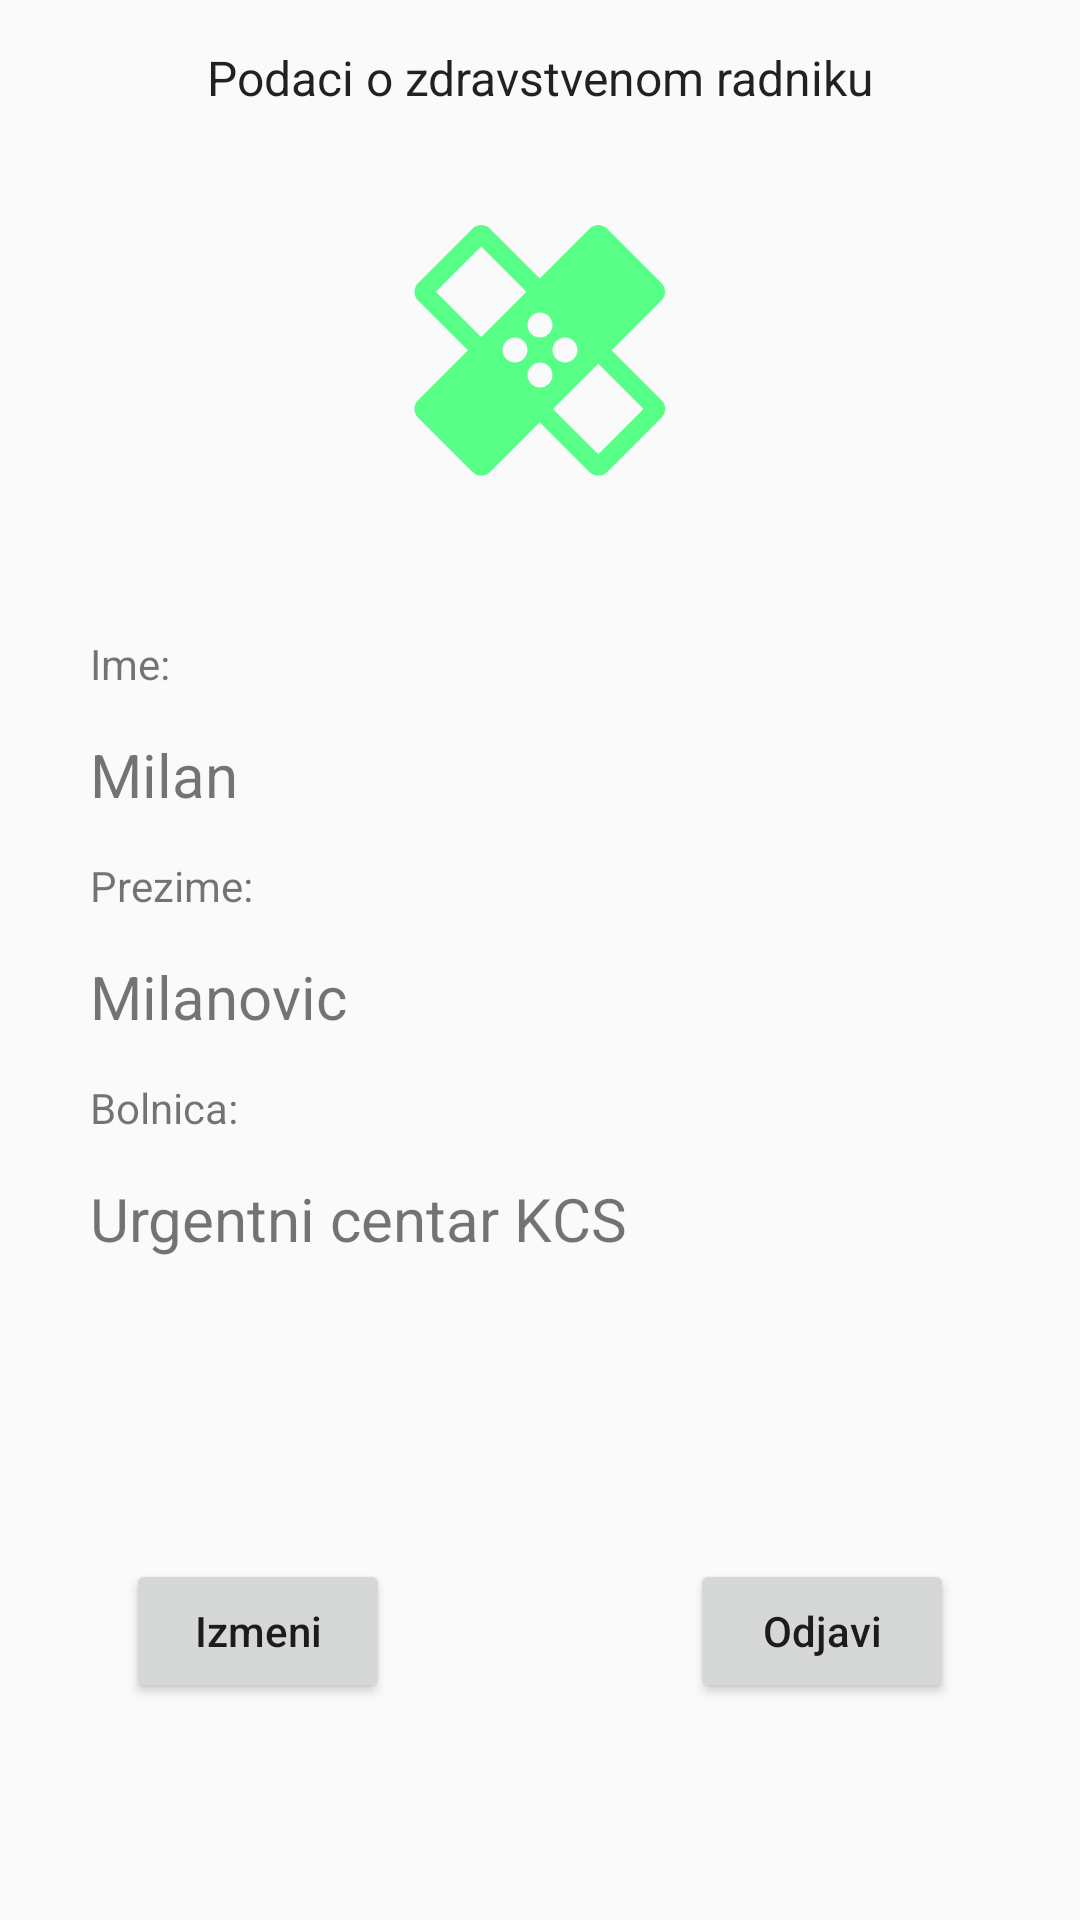

Icons on this 1080 × 1920 Android screen, each with the point to tap as point (x, y):
healing: point (539, 350)
